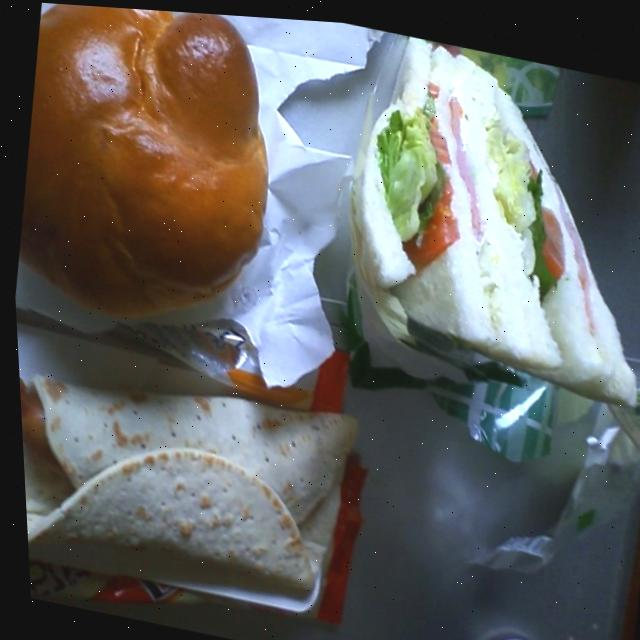三明治: (322, 21, 640, 433), (0, 0, 307, 343), (14, 334, 363, 632)
